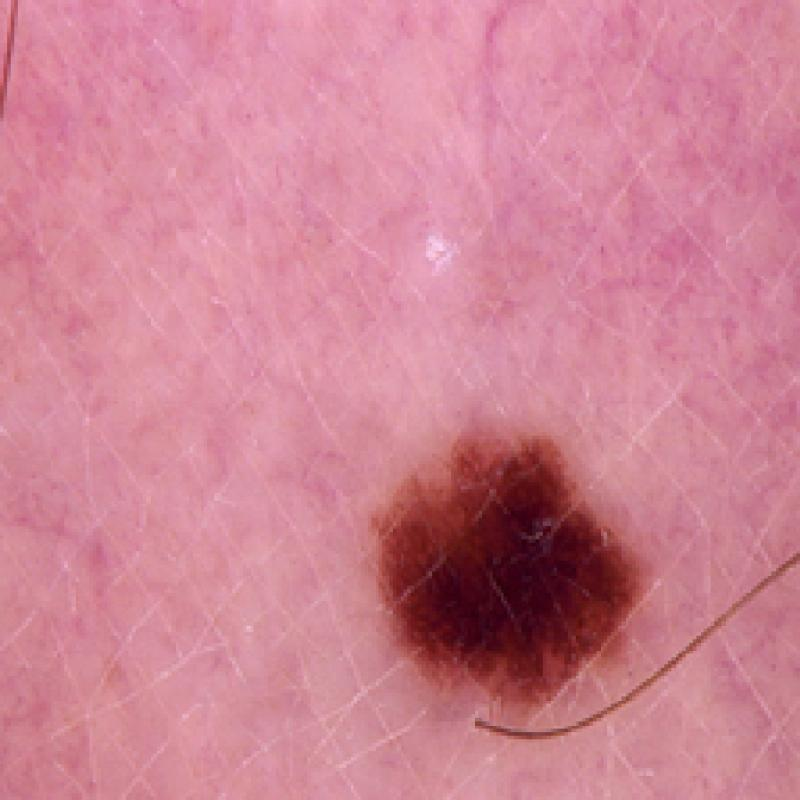benign: (348, 400, 655, 750)
